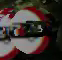Heavy Vehicles: (3, 3, 50, 53)
